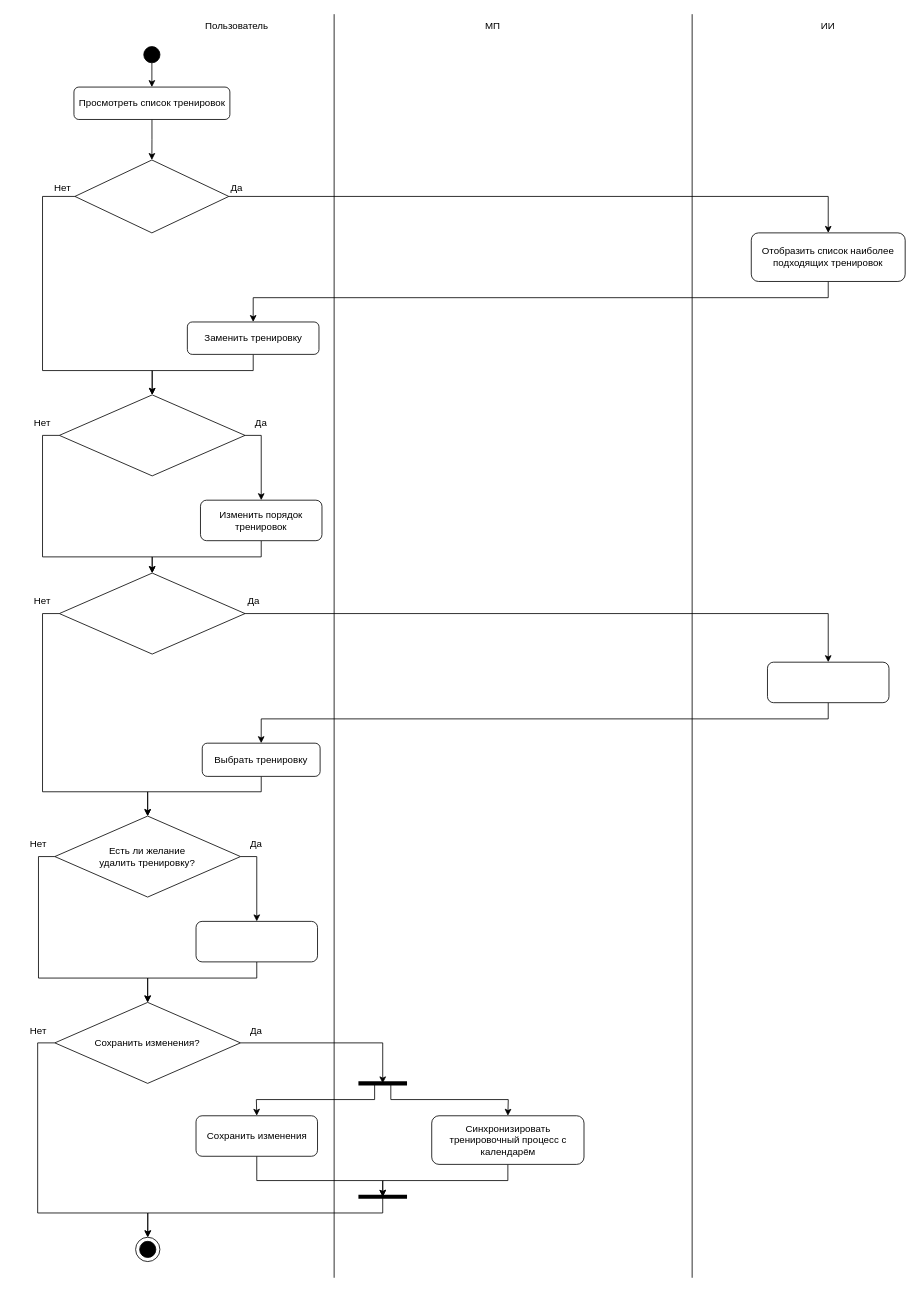
Image size: 919x1293. Some labels were removed from this diagram. The centre of each missing label's shape, as x and y in pixels:
"Есть ли желание добавить тренировку?" belongs at point (152, 613).
"Есть ли желание заменить тренировку?" belongs at point (151, 196).
"Есть ли желание изменить порядок тренировок?" belongs at point (152, 435).
"Показать ранжированный список тренировок" belongs at point (828, 682).
"Удалить тренировку" belongs at point (256, 941).
